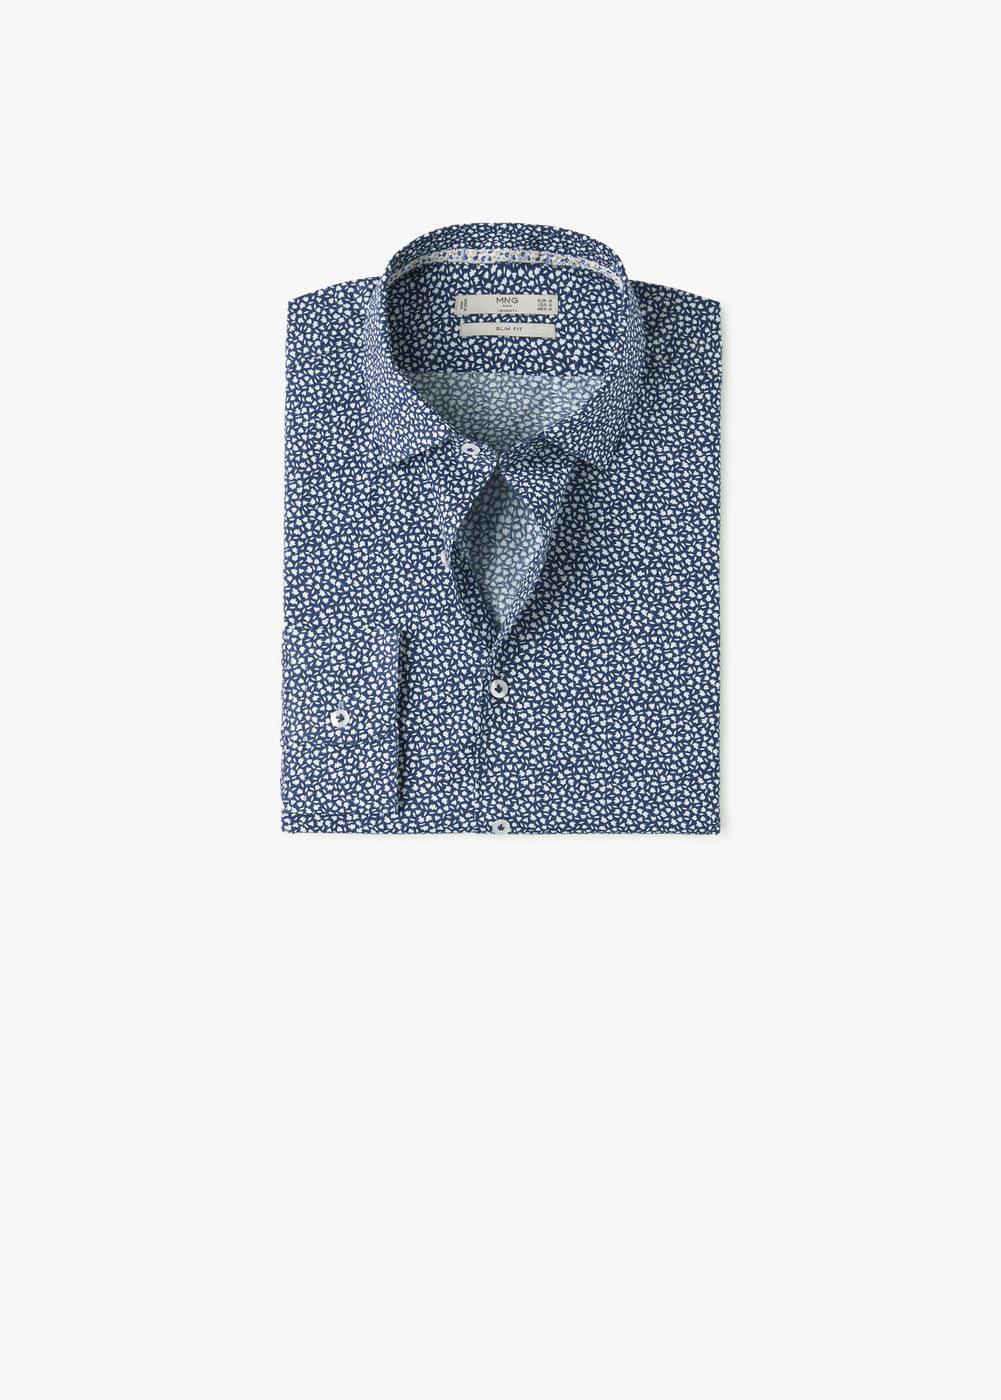teeshirt: (263, 221, 734, 861)
